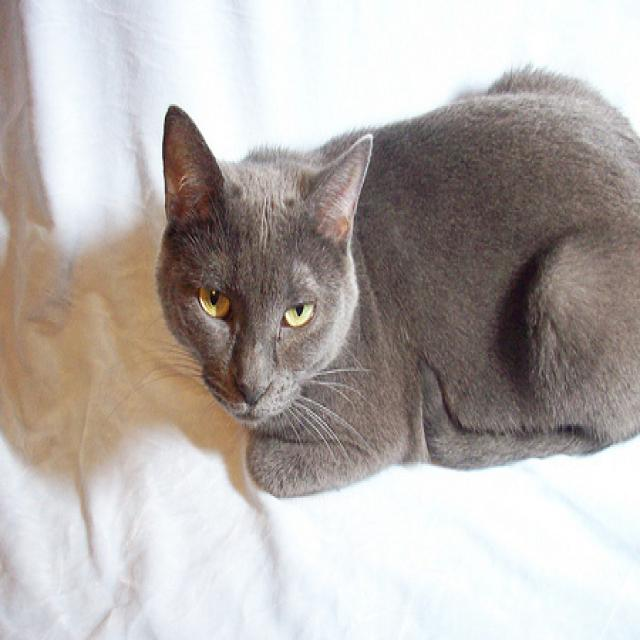Russian Blue: (153, 60, 640, 501)
